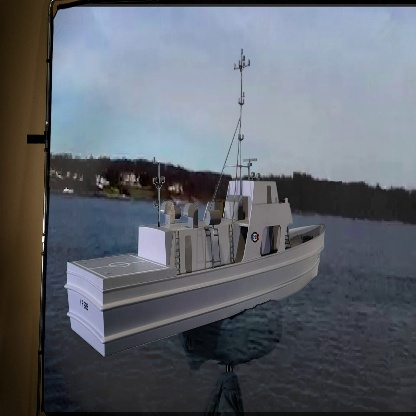YP689: (63, 52, 325, 366)
